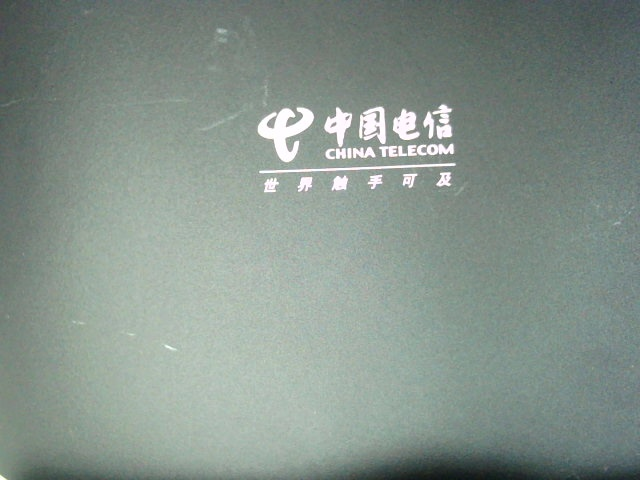AB_ChinaTelecom: (243, 103, 467, 199)
